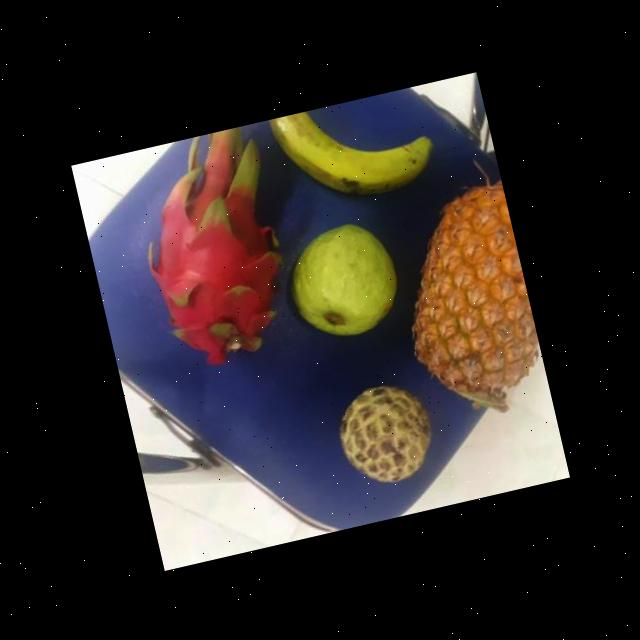Sakya fruit: (329, 372, 438, 489)
banana: (264, 84, 440, 216)
guava: (277, 212, 403, 344)
pineapple: (382, 181, 549, 416)
pitaya: (128, 146, 304, 372)
